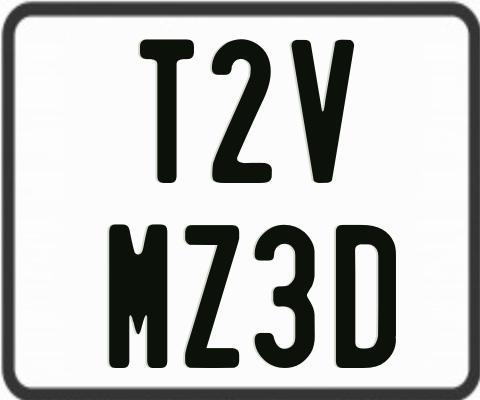2: (210, 39, 276, 183)
3: (252, 225, 313, 370)
D: (335, 223, 396, 369)
M: (107, 221, 165, 371)
T: (139, 37, 196, 187)
V: (288, 37, 353, 180)
Z: (182, 222, 237, 369)
